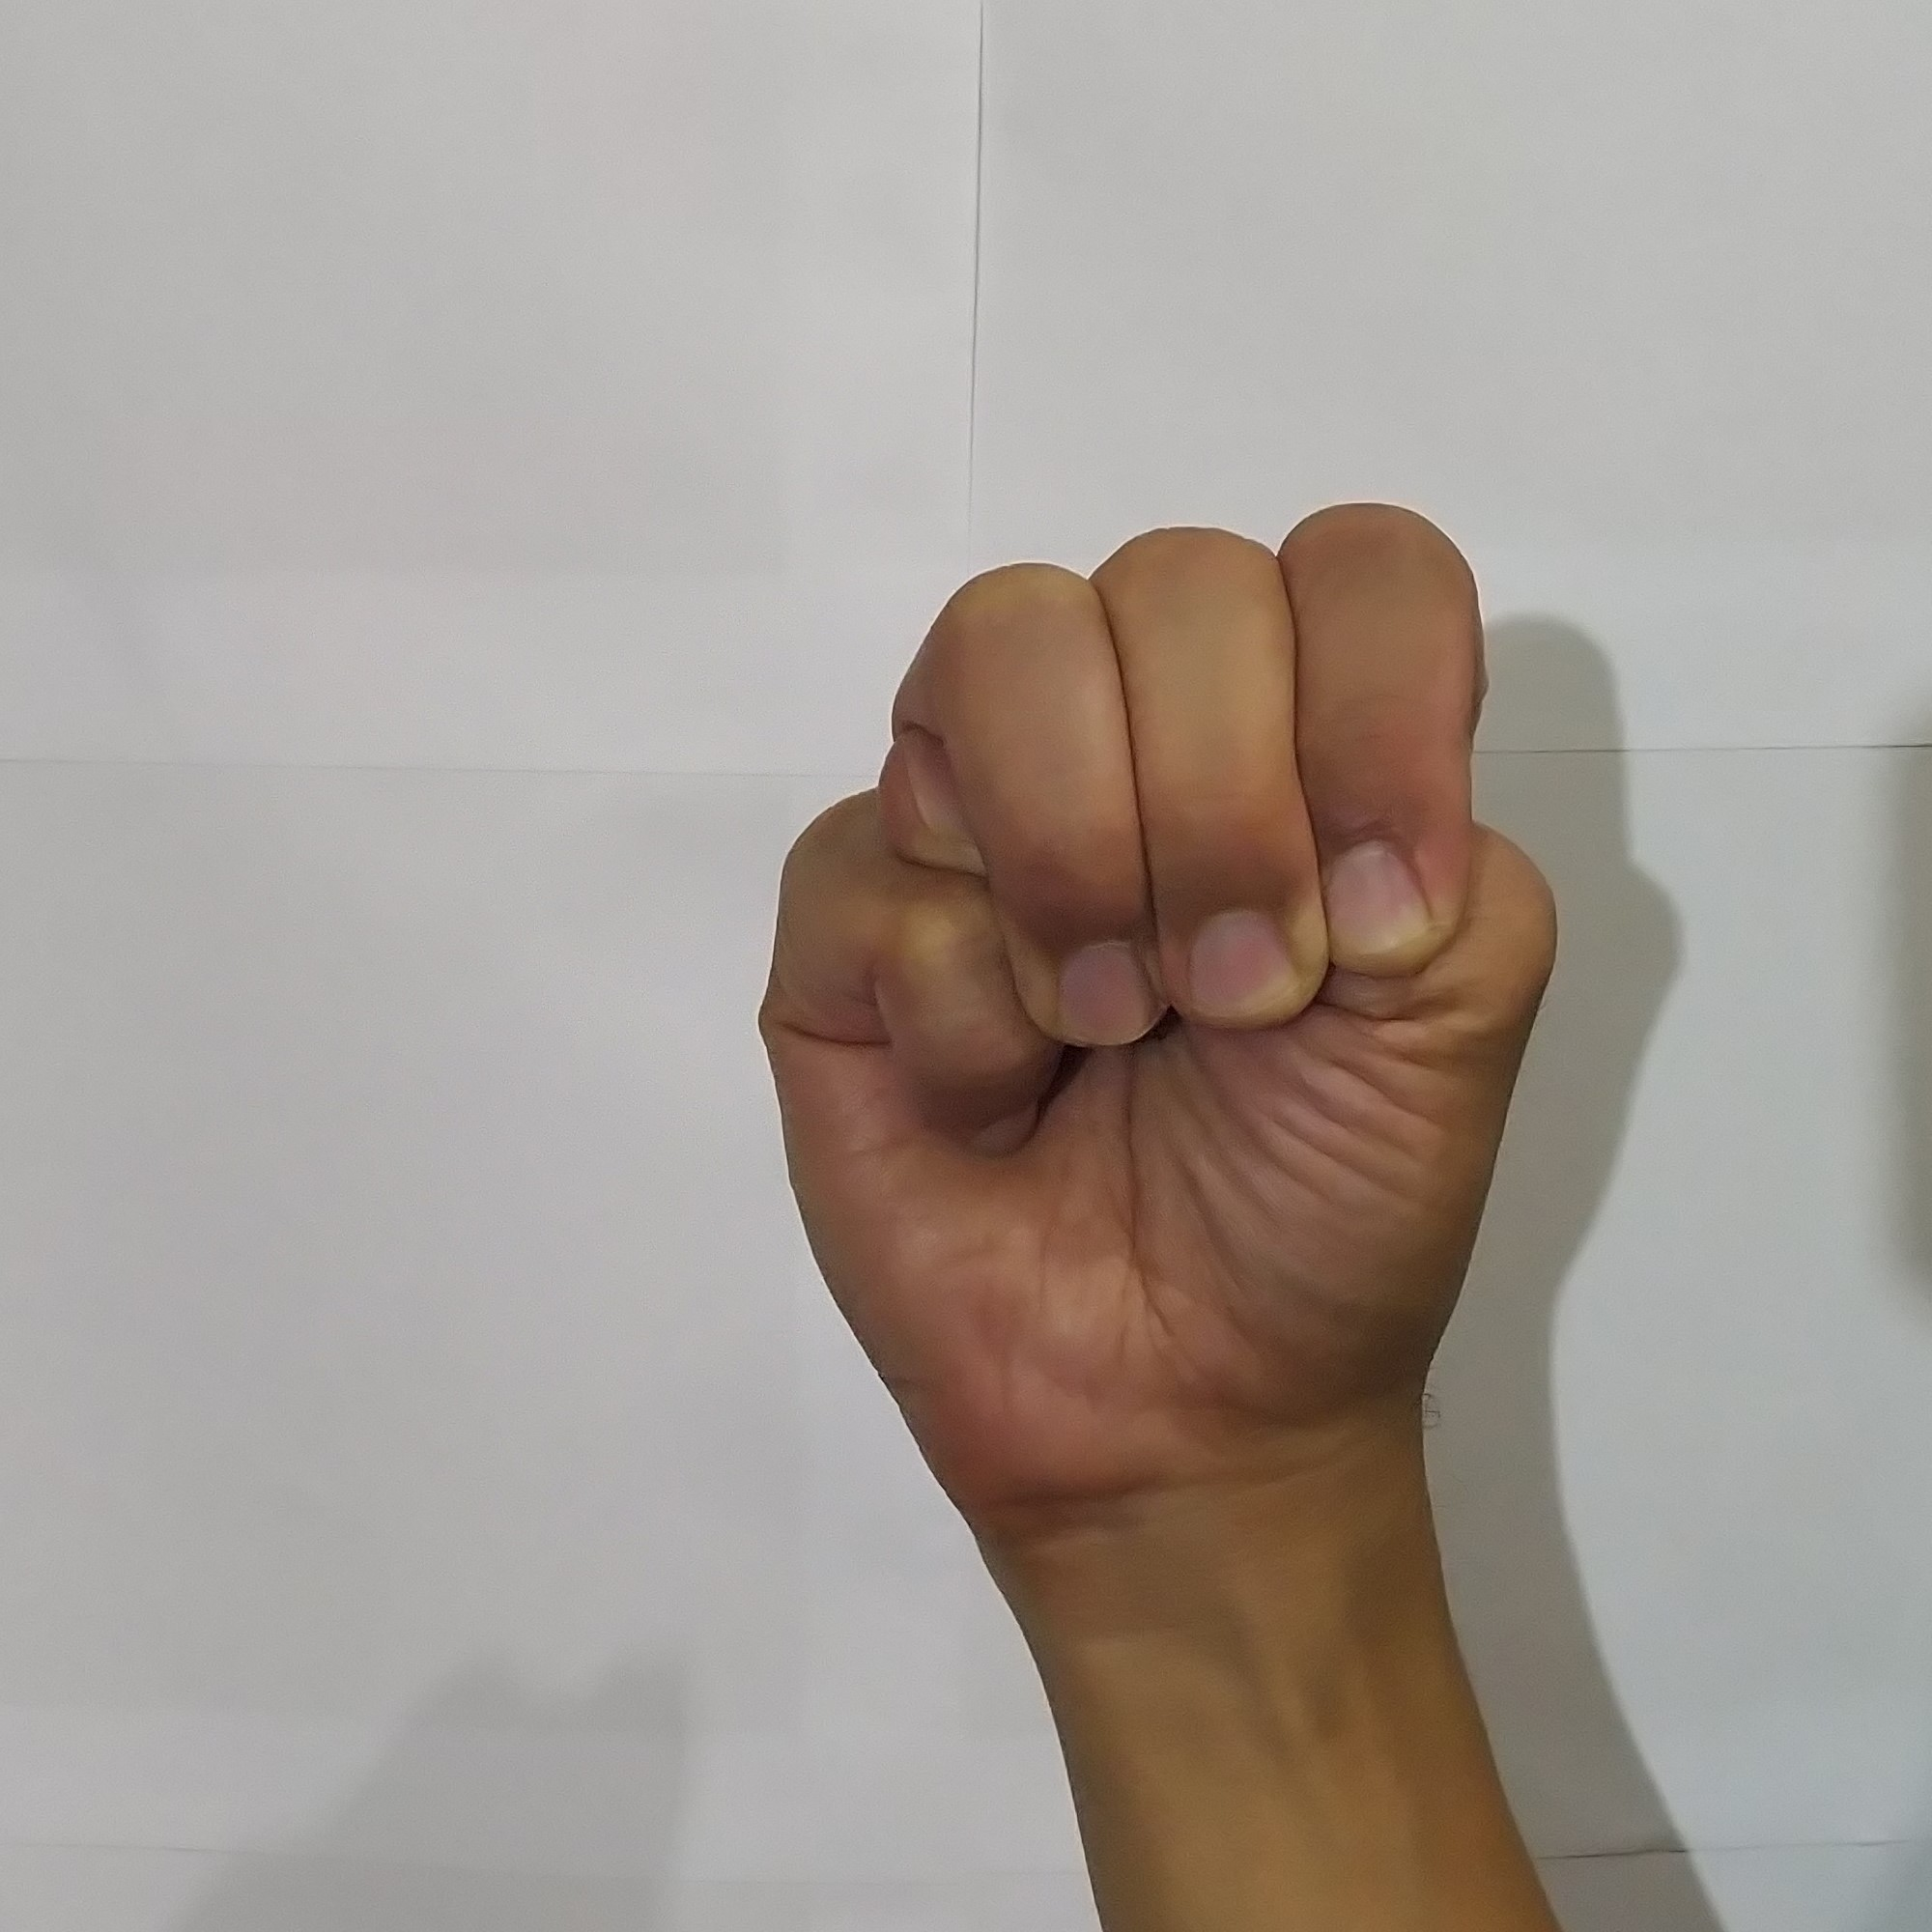M: (734, 476, 1580, 1468)
